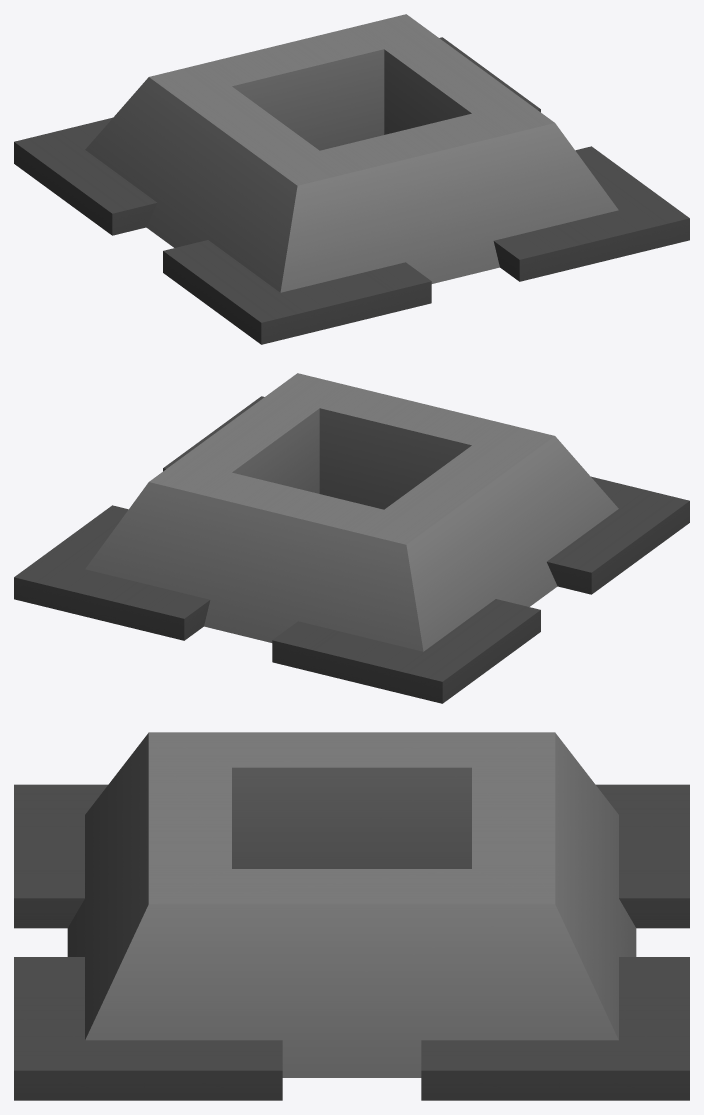
The model's file is Goldmine Default.obj.
3 views of the same model, one above another, from view 1: azimuth 30°, elevation 25°; view 2: azimuth 150°, elevation 25°; view 3: azimuth 270°, elevation 25° (orthographic). The views are drawn at different scales.
Visible parts, largest first — view 1: Plane, Cube_Cube.023; view 2: Plane, Cube_Cube.023; view 3: Plane, Cube_Cube.023.
Part boxes in pixels (x1,y1,x2,y2): Plane: [85, 14, 618, 292]; Cube_Cube.023: [14, 37, 689, 344]; Plane: [85, 373, 618, 651]; Cube_Cube.023: [14, 396, 689, 703]; Plane: [67, 732, 636, 1077]; Cube_Cube.023: [14, 784, 689, 1100].
Size of the model in its own units: 1.97 by 0.4479 by 1.97.
